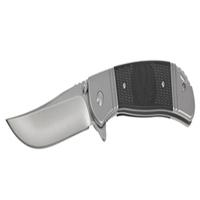knife: (3, 55, 199, 151)
